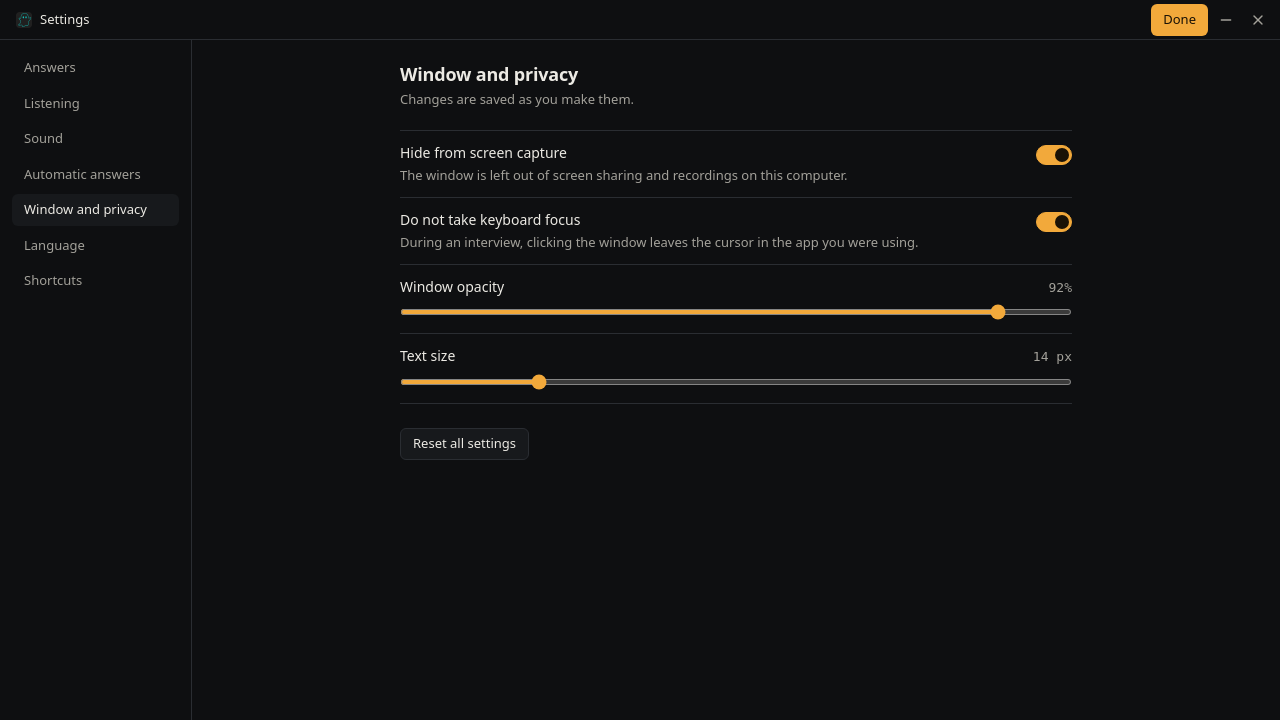
Test: Settings › shows a failed save and keeps showing the value that is really saved
What coordinates should you click on to do the following:
click the switch named "Hide from screen capture" in the row of "Hide from screen capture"
I would click on:
 (1054, 154)
Its box is [1036,144,1072,164].
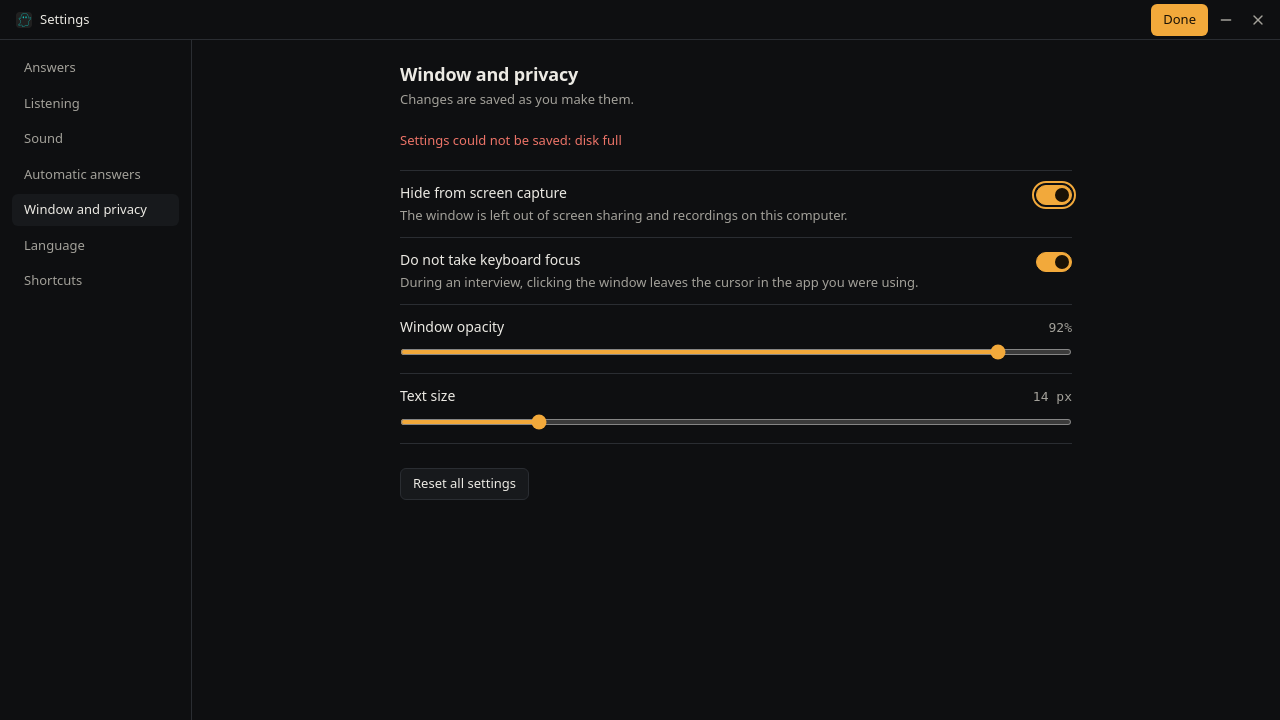
Now the message shows "disk full", box [400,130,622,148]
